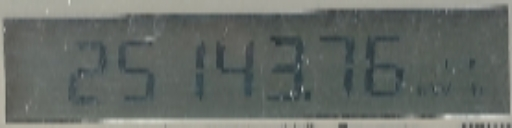1: (171, 34, 213, 104)
2: (68, 33, 110, 103), (266, 31, 308, 101)
4: (215, 34, 257, 104)
5: (113, 33, 155, 103)
6: (366, 28, 408, 98)
7: (316, 28, 358, 98)
d: (302, 87, 321, 104)
